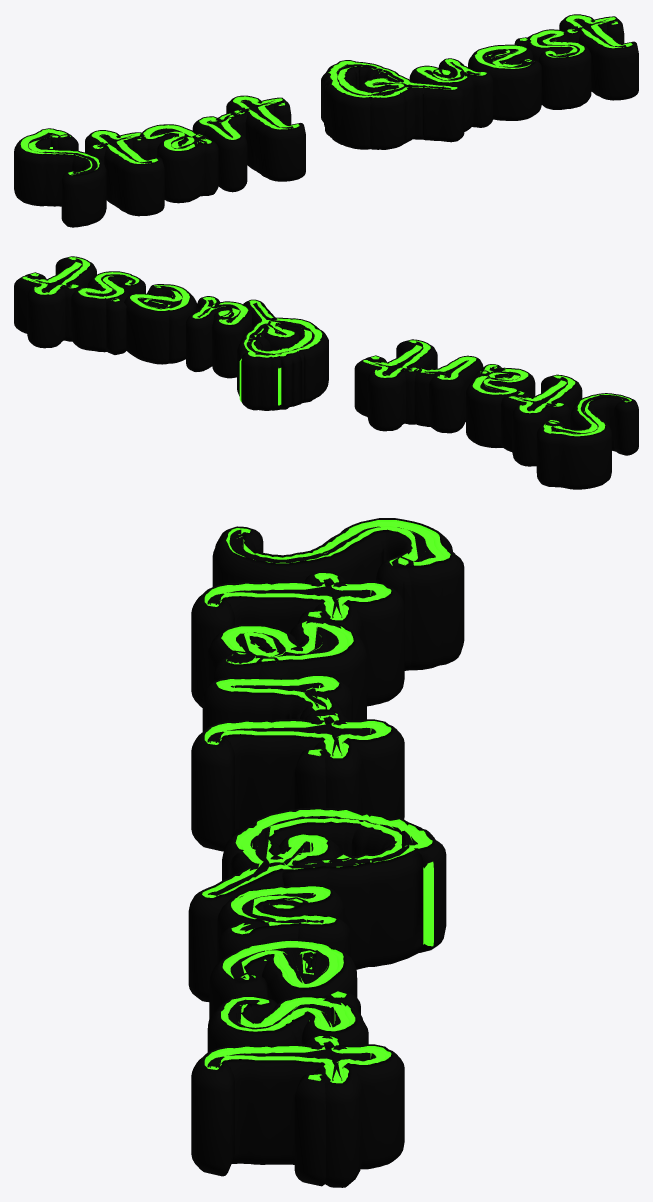
File: glow-button.glb
3 renders of one model, top to bottom at view 1: azimuth 30°, elevation 25°; view 2: azimuth 150°, elevation 25°; view 3: azimuth 270°, elevation 25°, orthographic. The views are drawn at different scales.
Parts seen in each view (by area): view 1: Text; view 2: Text; view 3: Text.
Part boxes in pixels (x1,y1,x2,y2): Text: [14, 14, 638, 227]; Text: [14, 256, 638, 489]; Text: [188, 518, 464, 1187].
Bounding box in the file's own units: 3.49 × 0.2977 × 0.7059.
